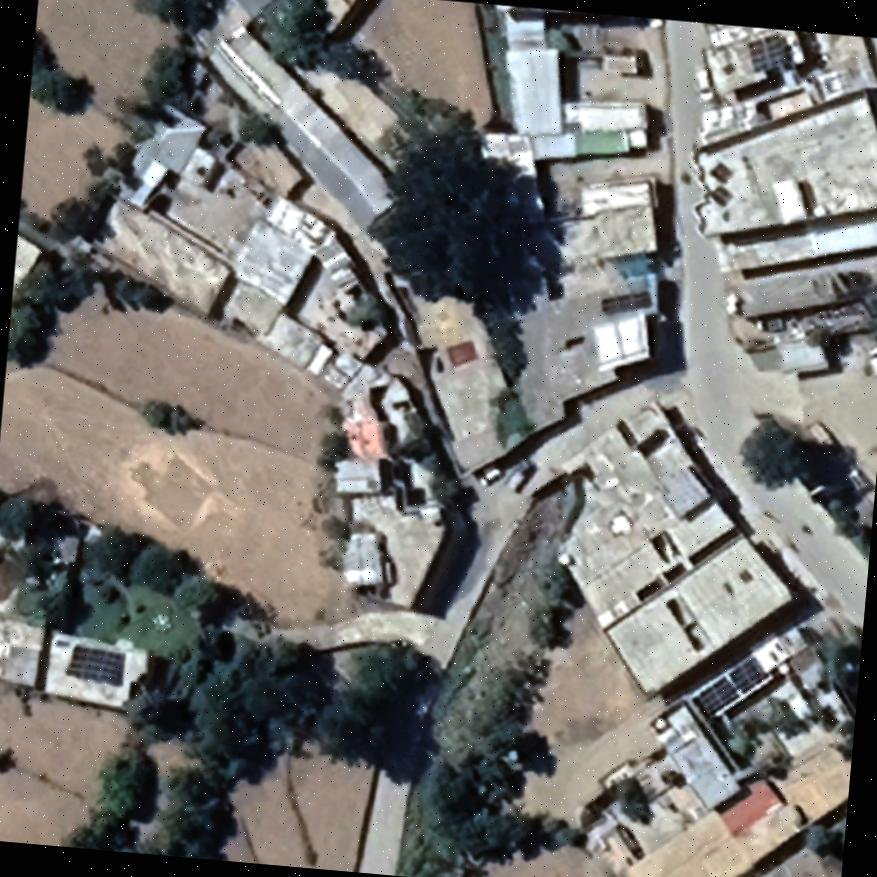Solarpanel: (690, 652, 768, 723), (62, 642, 122, 686), (745, 32, 788, 74), (598, 286, 651, 319)
